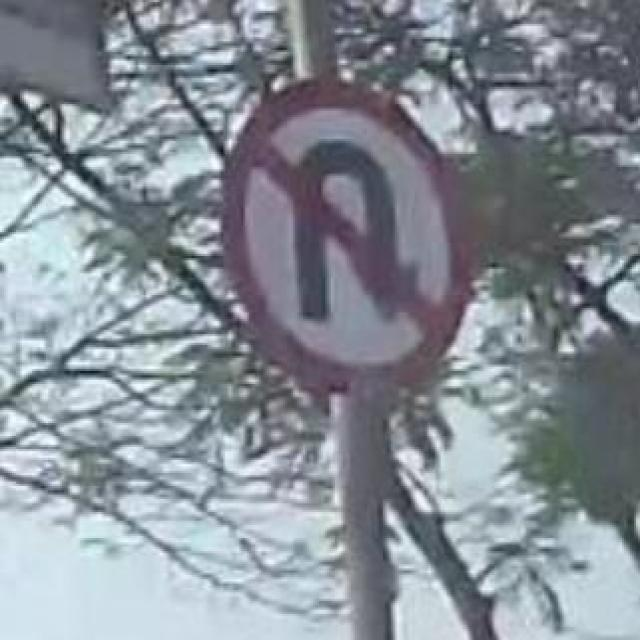traffic sign: (228, 83, 471, 393)
